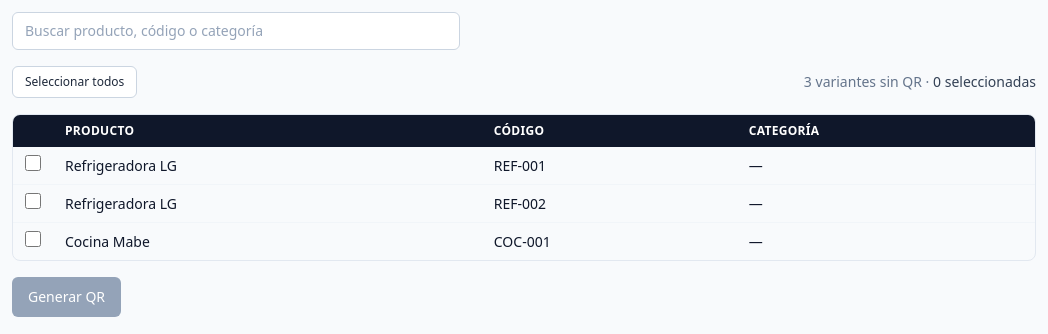
it: BulkQrGenerator › disables the generate button until at least one variant is selected, and reflects the count
Expected: the button "Generar QR" is disabled, x1=12 y1=277 x2=121 y2=317
Click the checkbox named "ref-001": click(33, 163) x1=25 y1=155 x2=41 y2=171
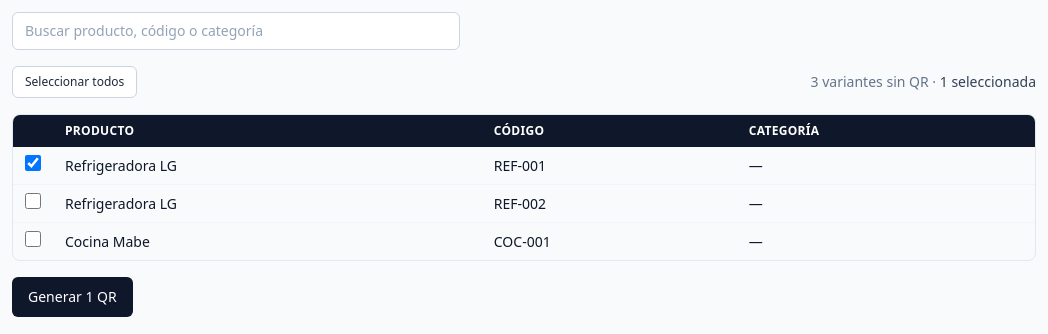
Result: the button "Generar 1 QR" is enabled at x1=12 y1=277 x2=133 y2=317
